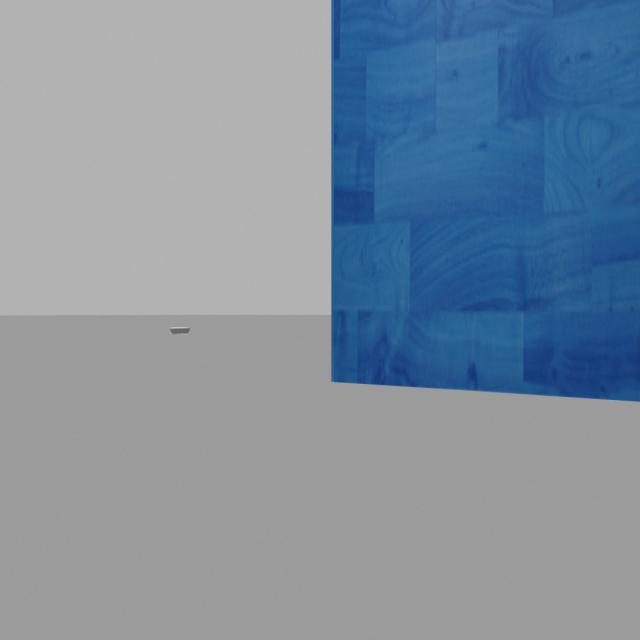bowl: (162, 318, 204, 338)
shelf: (319, 0, 639, 441)
